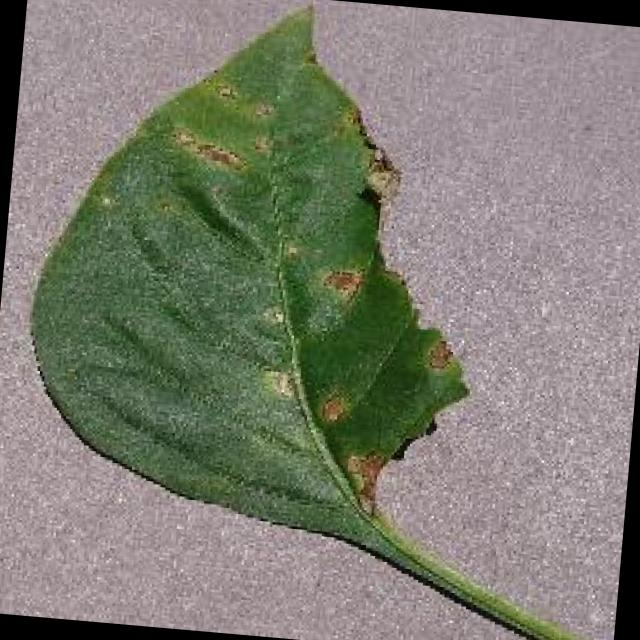Chilli_Bacterial_Spot: (7, 0, 504, 540), (162, 68, 286, 185), (165, 121, 254, 178), (336, 442, 389, 512), (356, 152, 404, 208), (314, 260, 368, 304), (190, 138, 250, 175), (256, 362, 302, 403), (421, 332, 456, 374), (313, 390, 349, 430), (274, 233, 308, 270), (208, 77, 240, 107)
